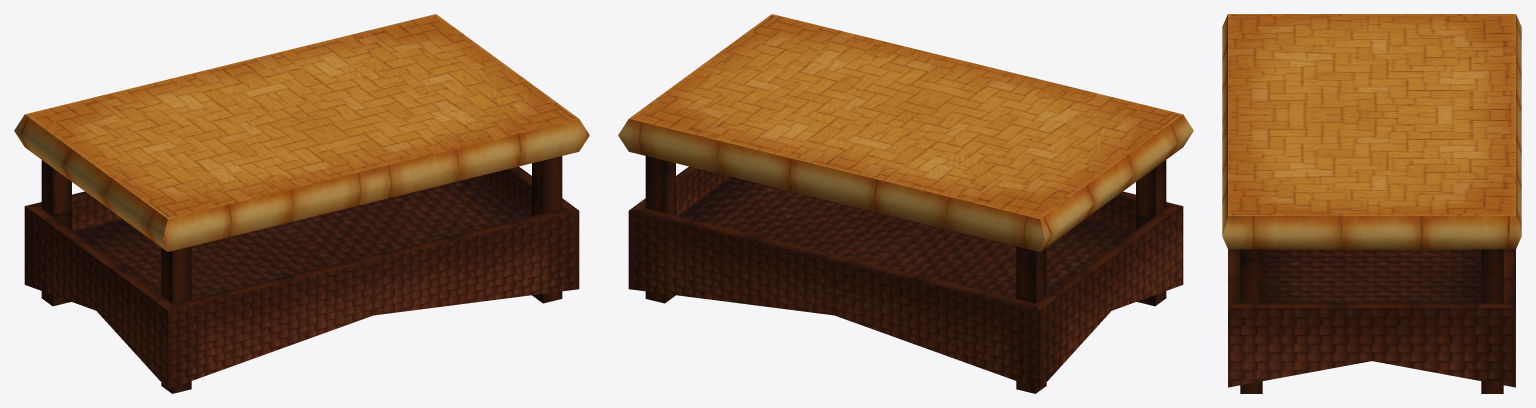
Rendered from Rattan_TableLow_03.FBX.
3 renders of one model, left to right at view 1: azimuth 30°, elevation 25°; view 2: azimuth 150°, elevation 25°; view 3: azimuth 270°, elevation 25°, orthographic.
Parts seen in each view (by area): view 1: Rattan_TableLow_03; view 2: Rattan_TableLow_03; view 3: Rattan_TableLow_03.
Boxes of the visible parts, bbox=[...] form: Rattan_TableLow_03: bbox=[14, 14, 589, 393]; Rattan_TableLow_03: bbox=[618, 14, 1193, 393]; Rattan_TableLow_03: bbox=[1222, 14, 1521, 393].
Size of the model in its own units: 1.42 by 0.8585 by 0.5799.
